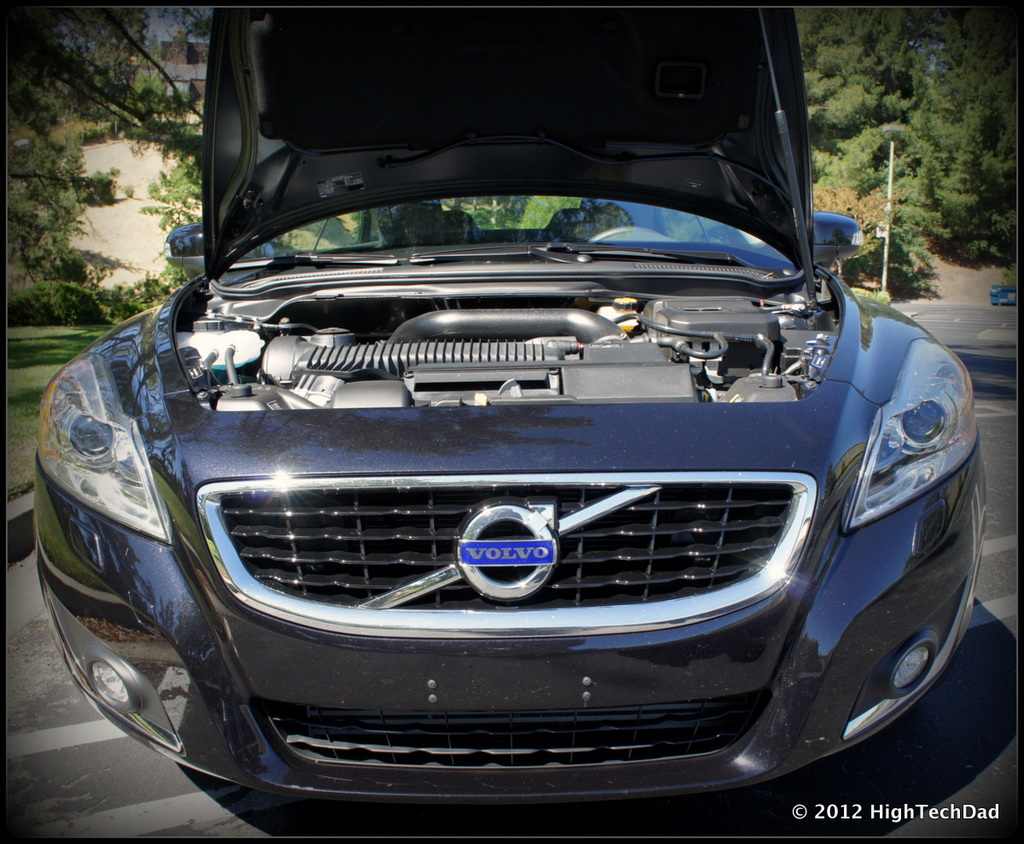Car: (26, 0, 992, 808)
